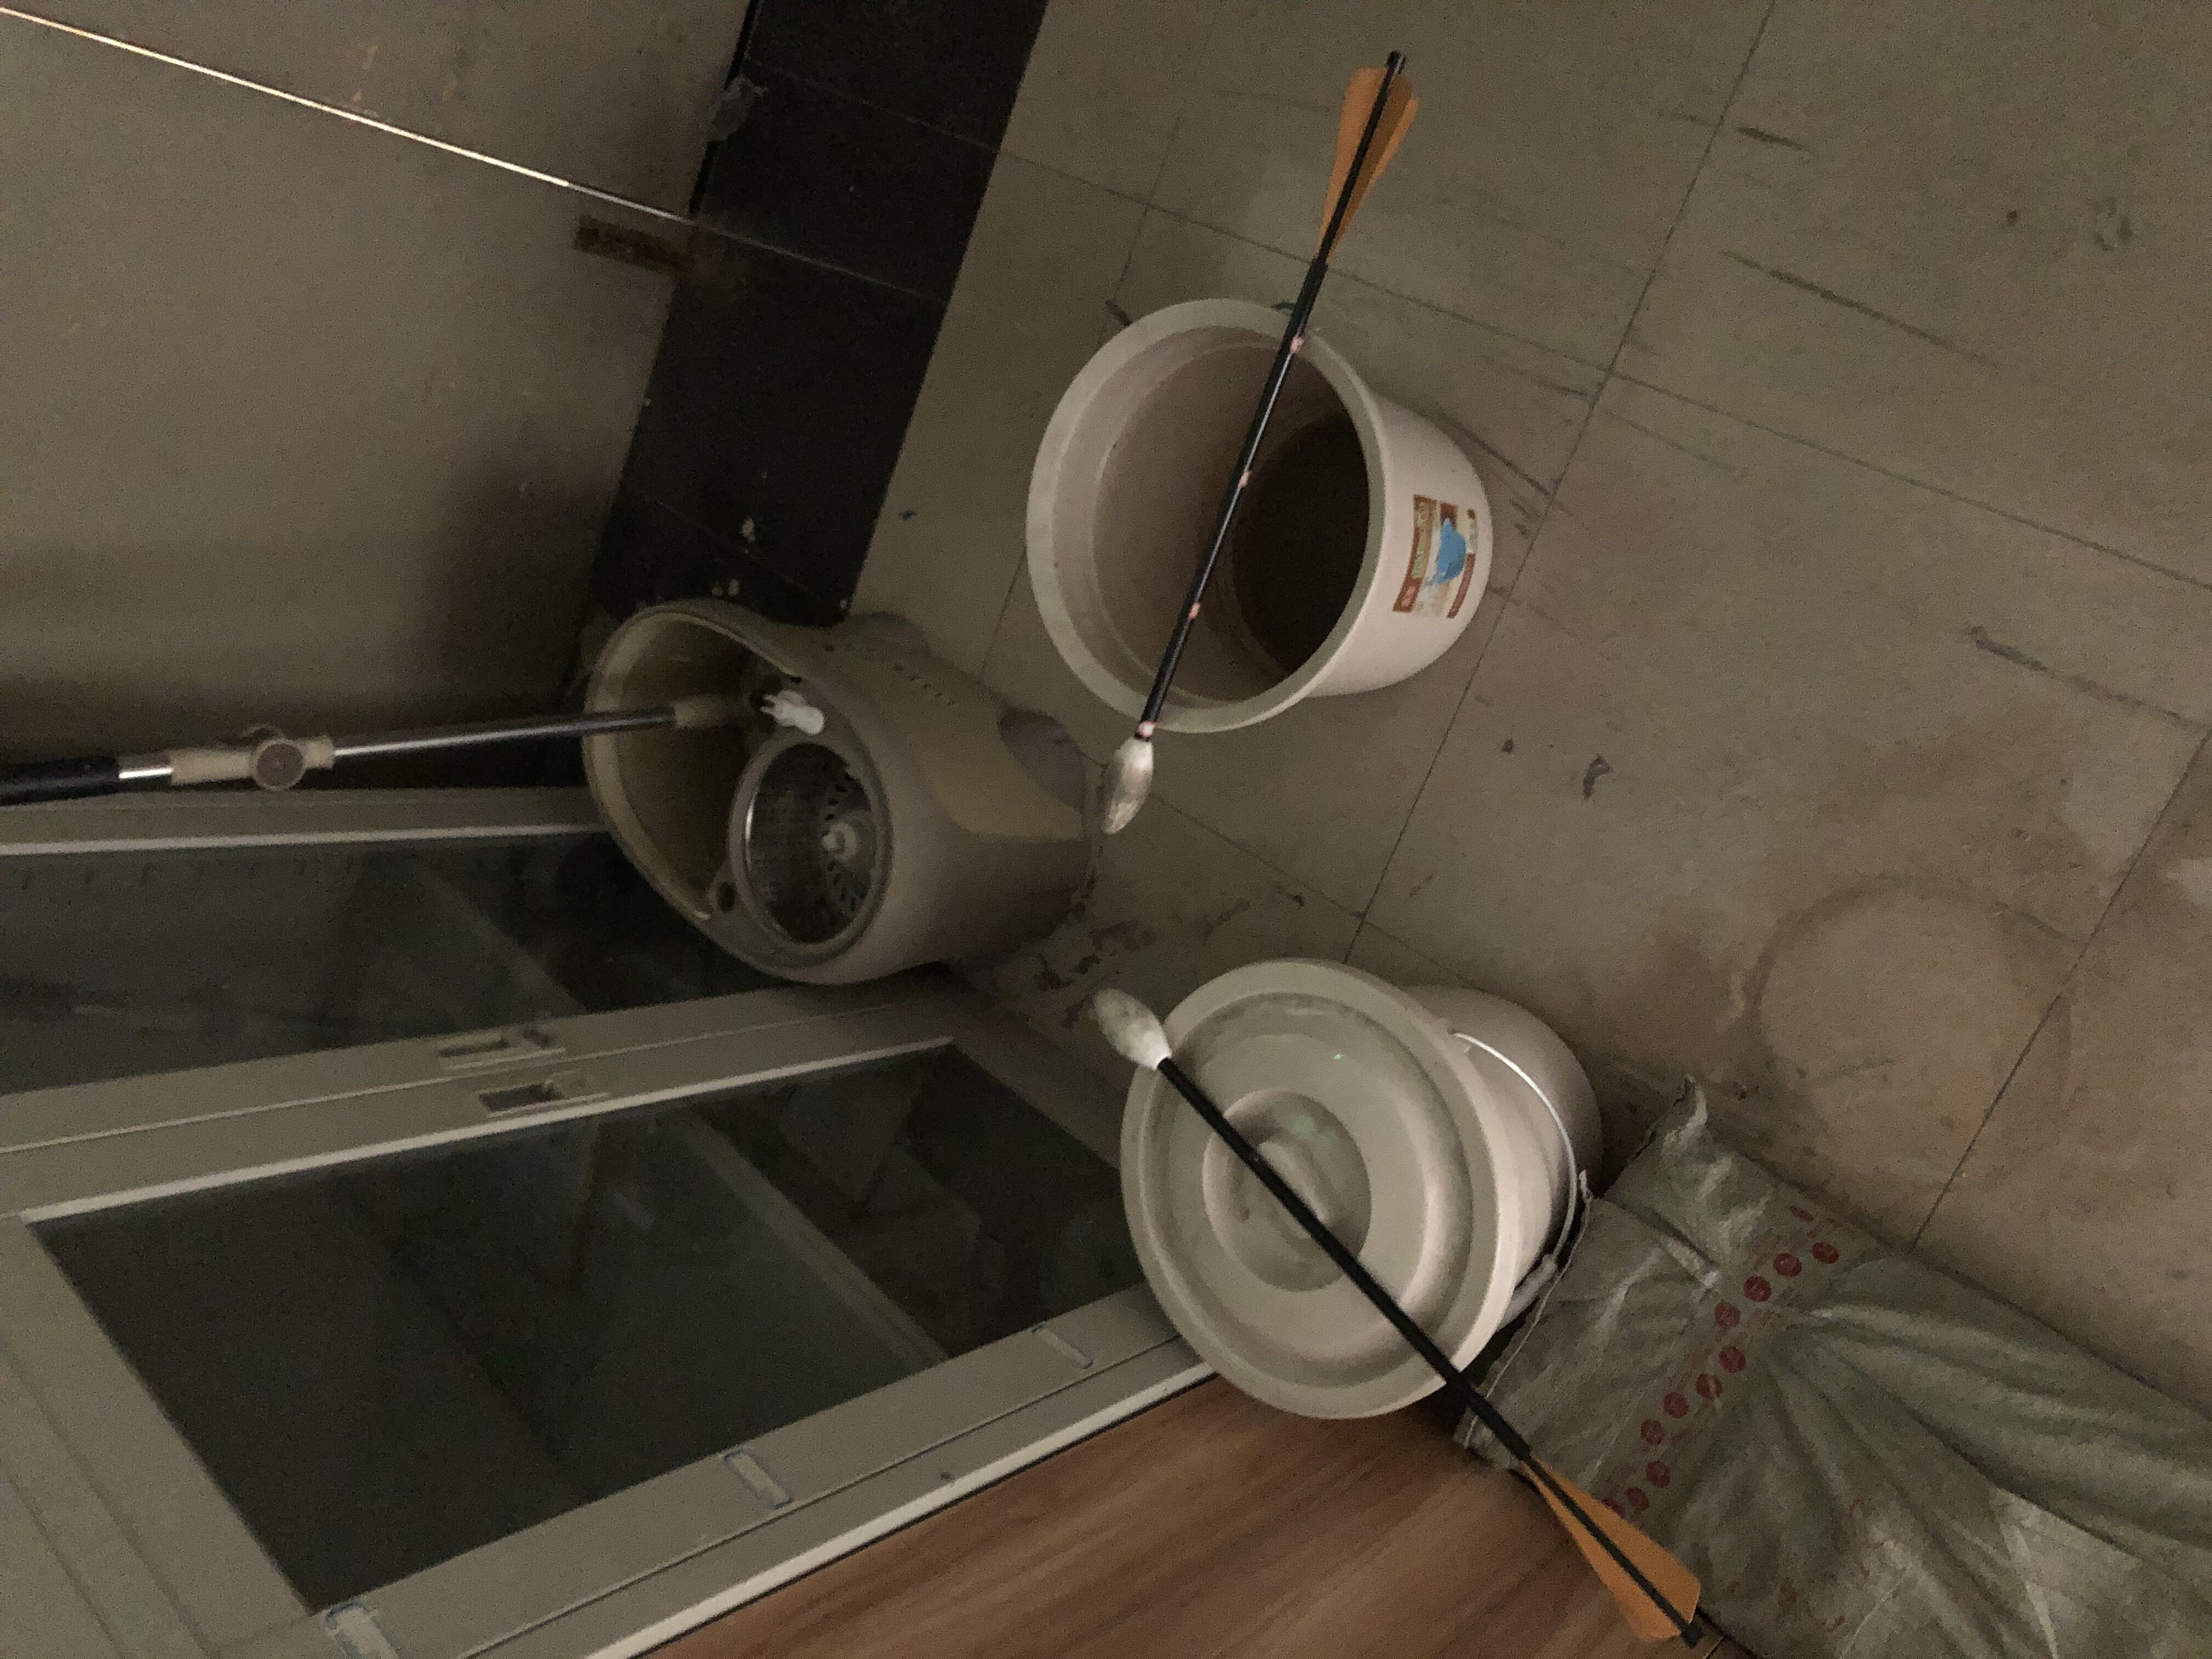arrow: (1092, 988, 1709, 1638), (1099, 44, 1423, 833)
arrowFront: (1090, 983, 1174, 1073), (1099, 732, 1155, 833)
